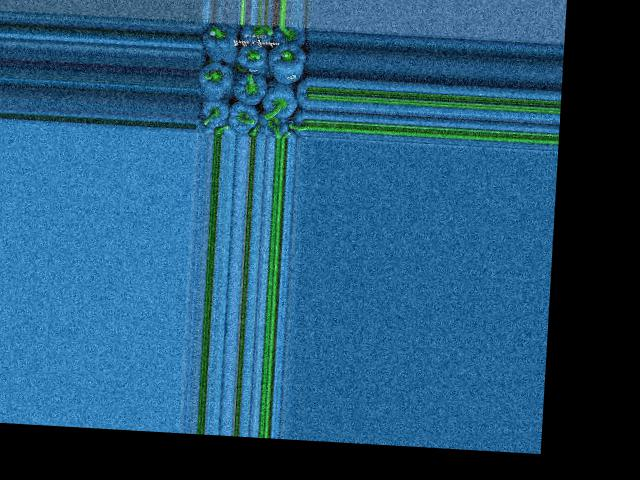bell_pepper: (270, 25, 310, 50)
